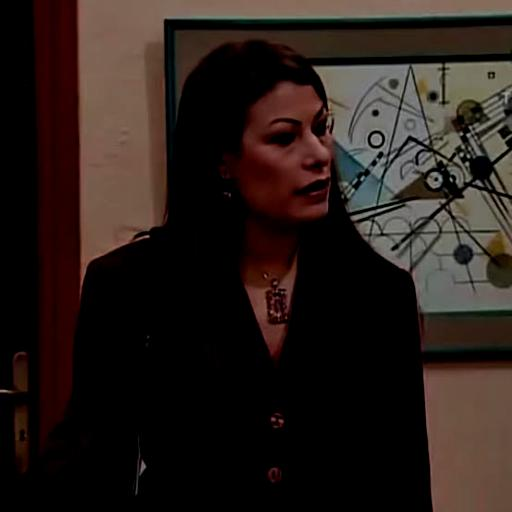zeineb: (213, 80, 333, 227)
